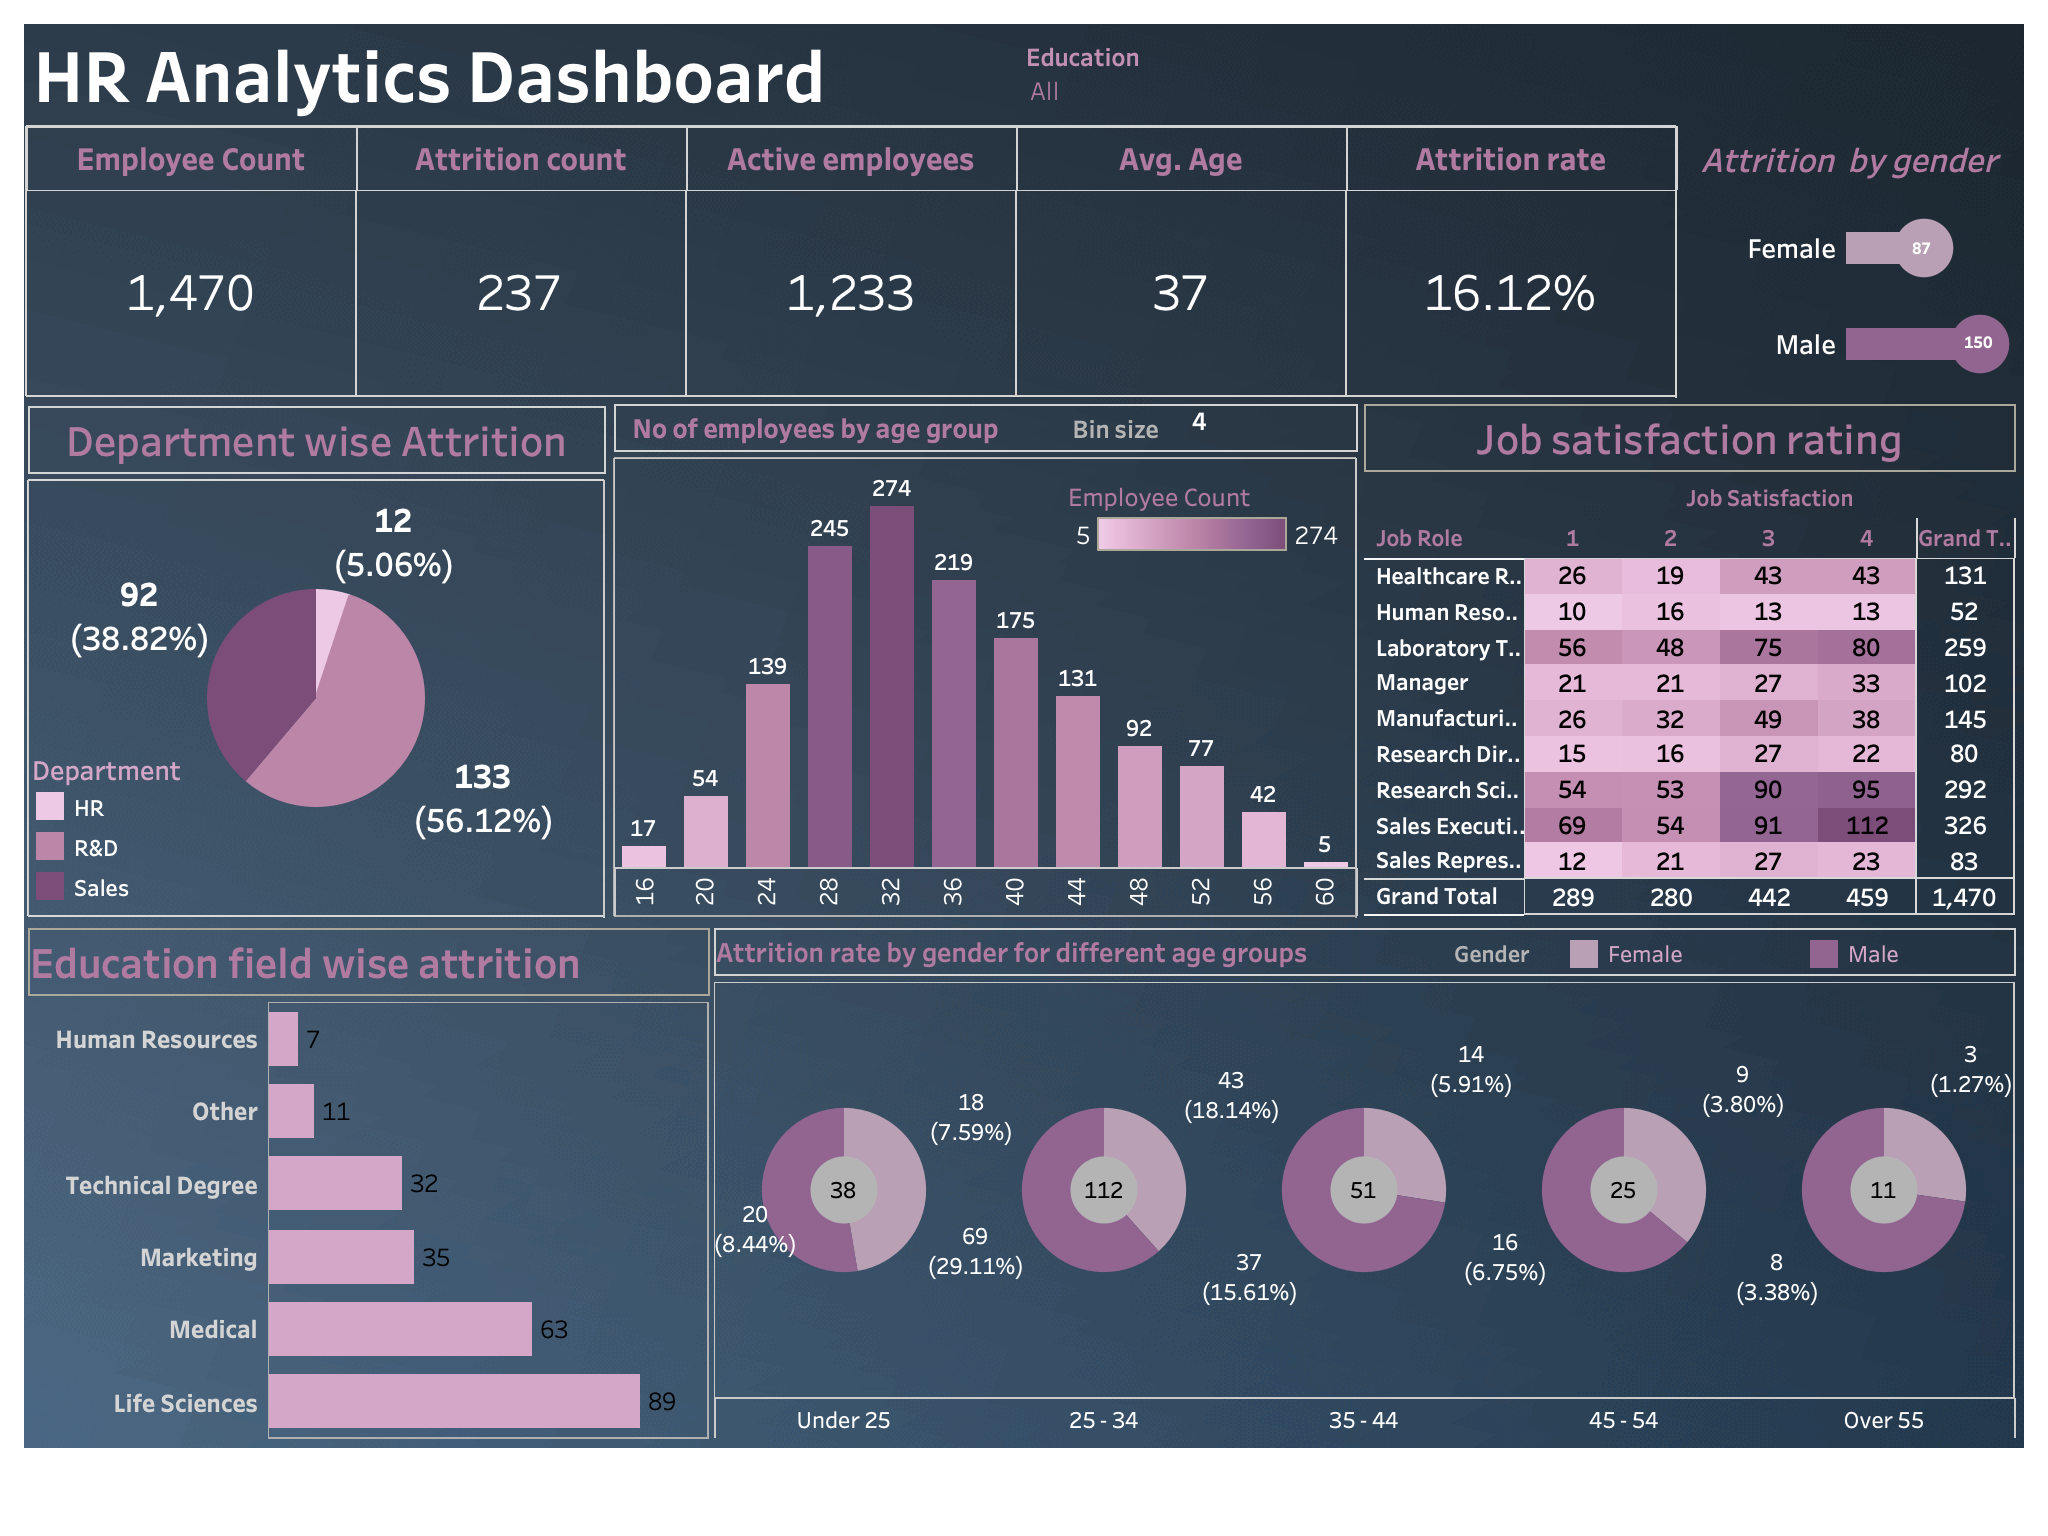

This screenshot's page, from the dashboard's own definition file:
{"tool":"tableau","page":{"name":"hr analytics dashboard","canvas":[1024,768],"ordinal":4},"visuals":[{"type":"image","param":"/Users/srujithadevineni/Downloads/hr analytics.png","box":[8,8,1008,720]},{"type":"text","box":[14,12,629,49]},{"type":"filter","title":"kpi","param":"[federated.04ltvfr0d6trjj139josl12a22v5].[none:Education:nk]","box":[513,19,160,39]},{"type":"worksheet","title":"kpi","mark":"Automatic","box":[13,63,826,136]},{"type":"worksheet","title":"Attrition  by gender","mark":"Automatic","rows":["Gender"],"cols":["Calculation_194006663835357184","Calculation_194006663835357184"],"box":[843,63,165,133]},{"type":"worksheet","title":"   No of employees by age group","mark":"Automatic","rows":["Employee Count"],"cols":["Age (bin)"],"box":[307,202,372,257]},{"type":"parameter","param":"[Parameters].[Parameter 1]","box":[522,202,153,24]},{"type":"worksheet","title":"Job satisfaction rating","mark":"Square","rows":["Job Role"],"cols":["Job Satisfaction"],"box":[682,202,326,256]},{"type":"worksheet","title":"department wise attrition ","mark":"Pie","box":[14,203,289,256]},{"type":"legend","title":"   No of employees by age group","param":"[federated.04ltvfr0d6trjj139josl12a22v5].[sum:Employee Count:qk]","box":[534,236,140,44]},{"type":"legend","title":"department wise attrition ","param":"[federated.04ltvfr0d6trjj139josl12a22v5].[none:Department:nk]","box":[15,374,98,78]},{"type":"worksheet","title":"Education field wise attrition","mark":"Automatic","rows":["Education Field"],"cols":["Calculation_194006663835357184"],"box":[14,464,341,256]},{"type":"worksheet","title":"Attrition rate by gender for different age groups  ","mark":"Pie","rows":["Calculation_3206492602766077953","Calculation_3206492602766077953"],"cols":["CF_age band"],"box":[357,464,651,256]},{"type":"legend","title":"Attrition rate by gender for different age groups  ","param":"[federated.04ltvfr0d6trjj139josl12a22v5].[none:Gender:nk]","box":[710,467,295,20]},{"type":"image","param":"/Users/srujithadevineni/Desktop/hr analytics.png","box":[8,728,1008,32]}]}

Visuals, with their boxes in screenshot pixels (x1, y1, x2, y2), scaled from the page's 1024x768 canvas onto the 2048x1536 screenshot:
image: 16:16:2032:1456
text: 28:24:1286:122
"kpi" filter: 1026:38:1346:116
"kpi" worksheet: 26:126:1678:398
"Attrition  by gender" worksheet: 1686:126:2016:392
"   No of employees by age group" worksheet: 614:404:1358:918
parameter: 1044:404:1350:452
"Job satisfaction rating" worksheet (Square marks): 1364:404:2016:916
"department wise attrition " worksheet (Pie marks): 28:406:606:918
"   No of employees by age group" legend: 1068:472:1348:560
"department wise attrition " legend: 30:748:226:904
"Education field wise attrition" worksheet: 28:928:710:1440
"Attrition rate by gender for different age groups  " worksheet (Pie marks): 714:928:2016:1440
"Attrition rate by gender for different age groups  " legend: 1420:934:2010:974
image: 16:1456:2032:1520
